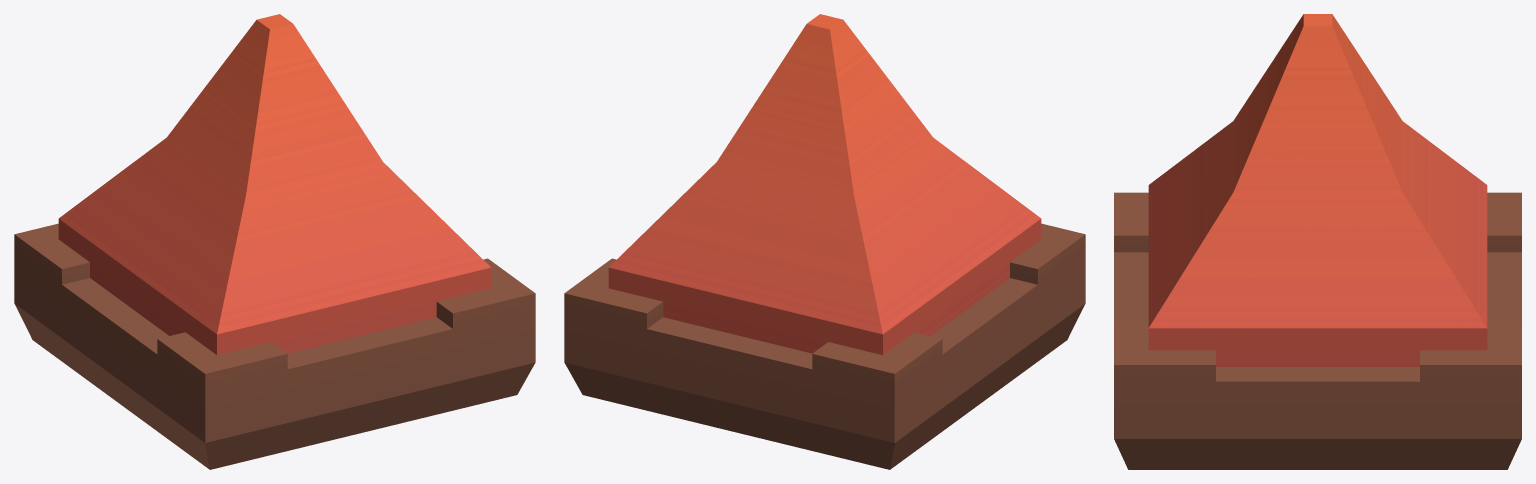
Rendered from tower-square-top-roof.glb.
The picture shows the model from 3 angles, left to right: view 1: azimuth 30°, elevation 25°; view 2: azimuth 150°, elevation 25°; view 3: azimuth 270°, elevation 25°; orthographic projection. The views are drawn at different scales.
Visible parts, largest first — view 1: tower-square-top-roof; view 2: tower-square-top-roof; view 3: tower-square-top-roof.
Boxes of the visible parts, left/top/right/bottom form: tower-square-top-roof: left=14, top=14, right=535, bottom=469; tower-square-top-roof: left=564, top=14, right=1085, bottom=469; tower-square-top-roof: left=1114, top=14, right=1521, bottom=469.
Bounding box in the file's own units: 3 × 3 × 3.
Materials: 1 (1 with a texture image).
